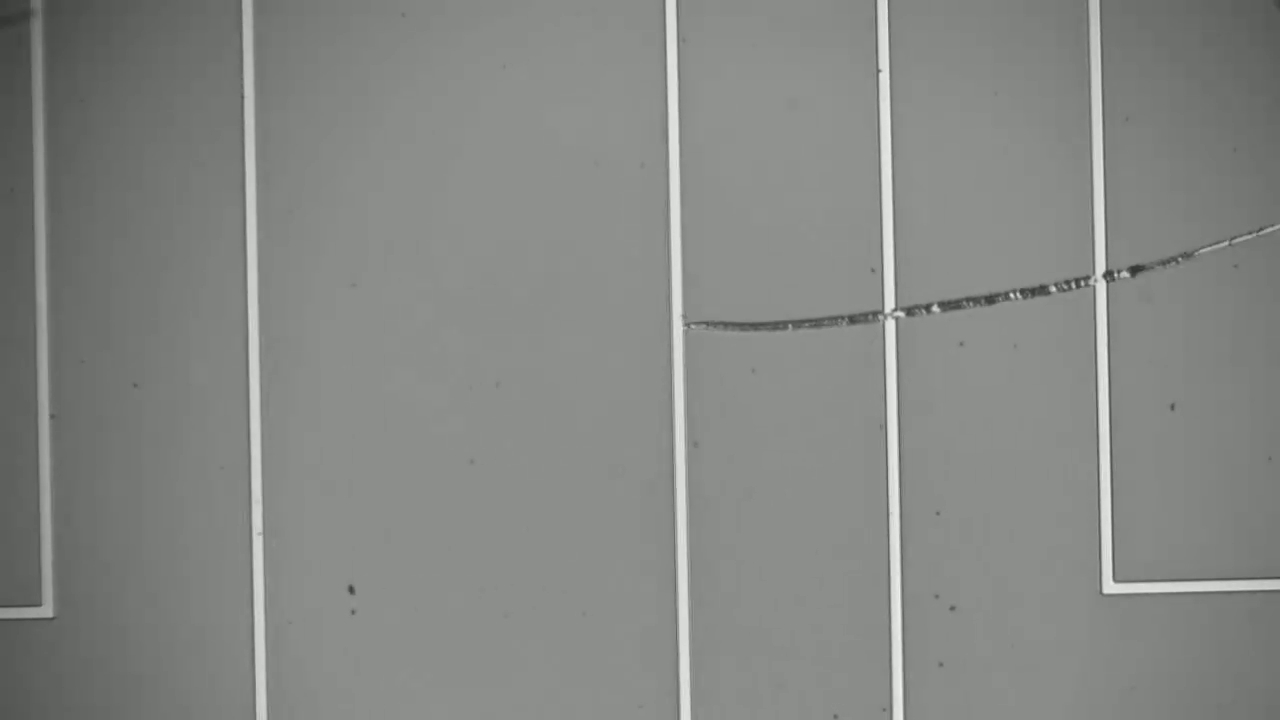scratch: (696, 198, 1277, 351)
